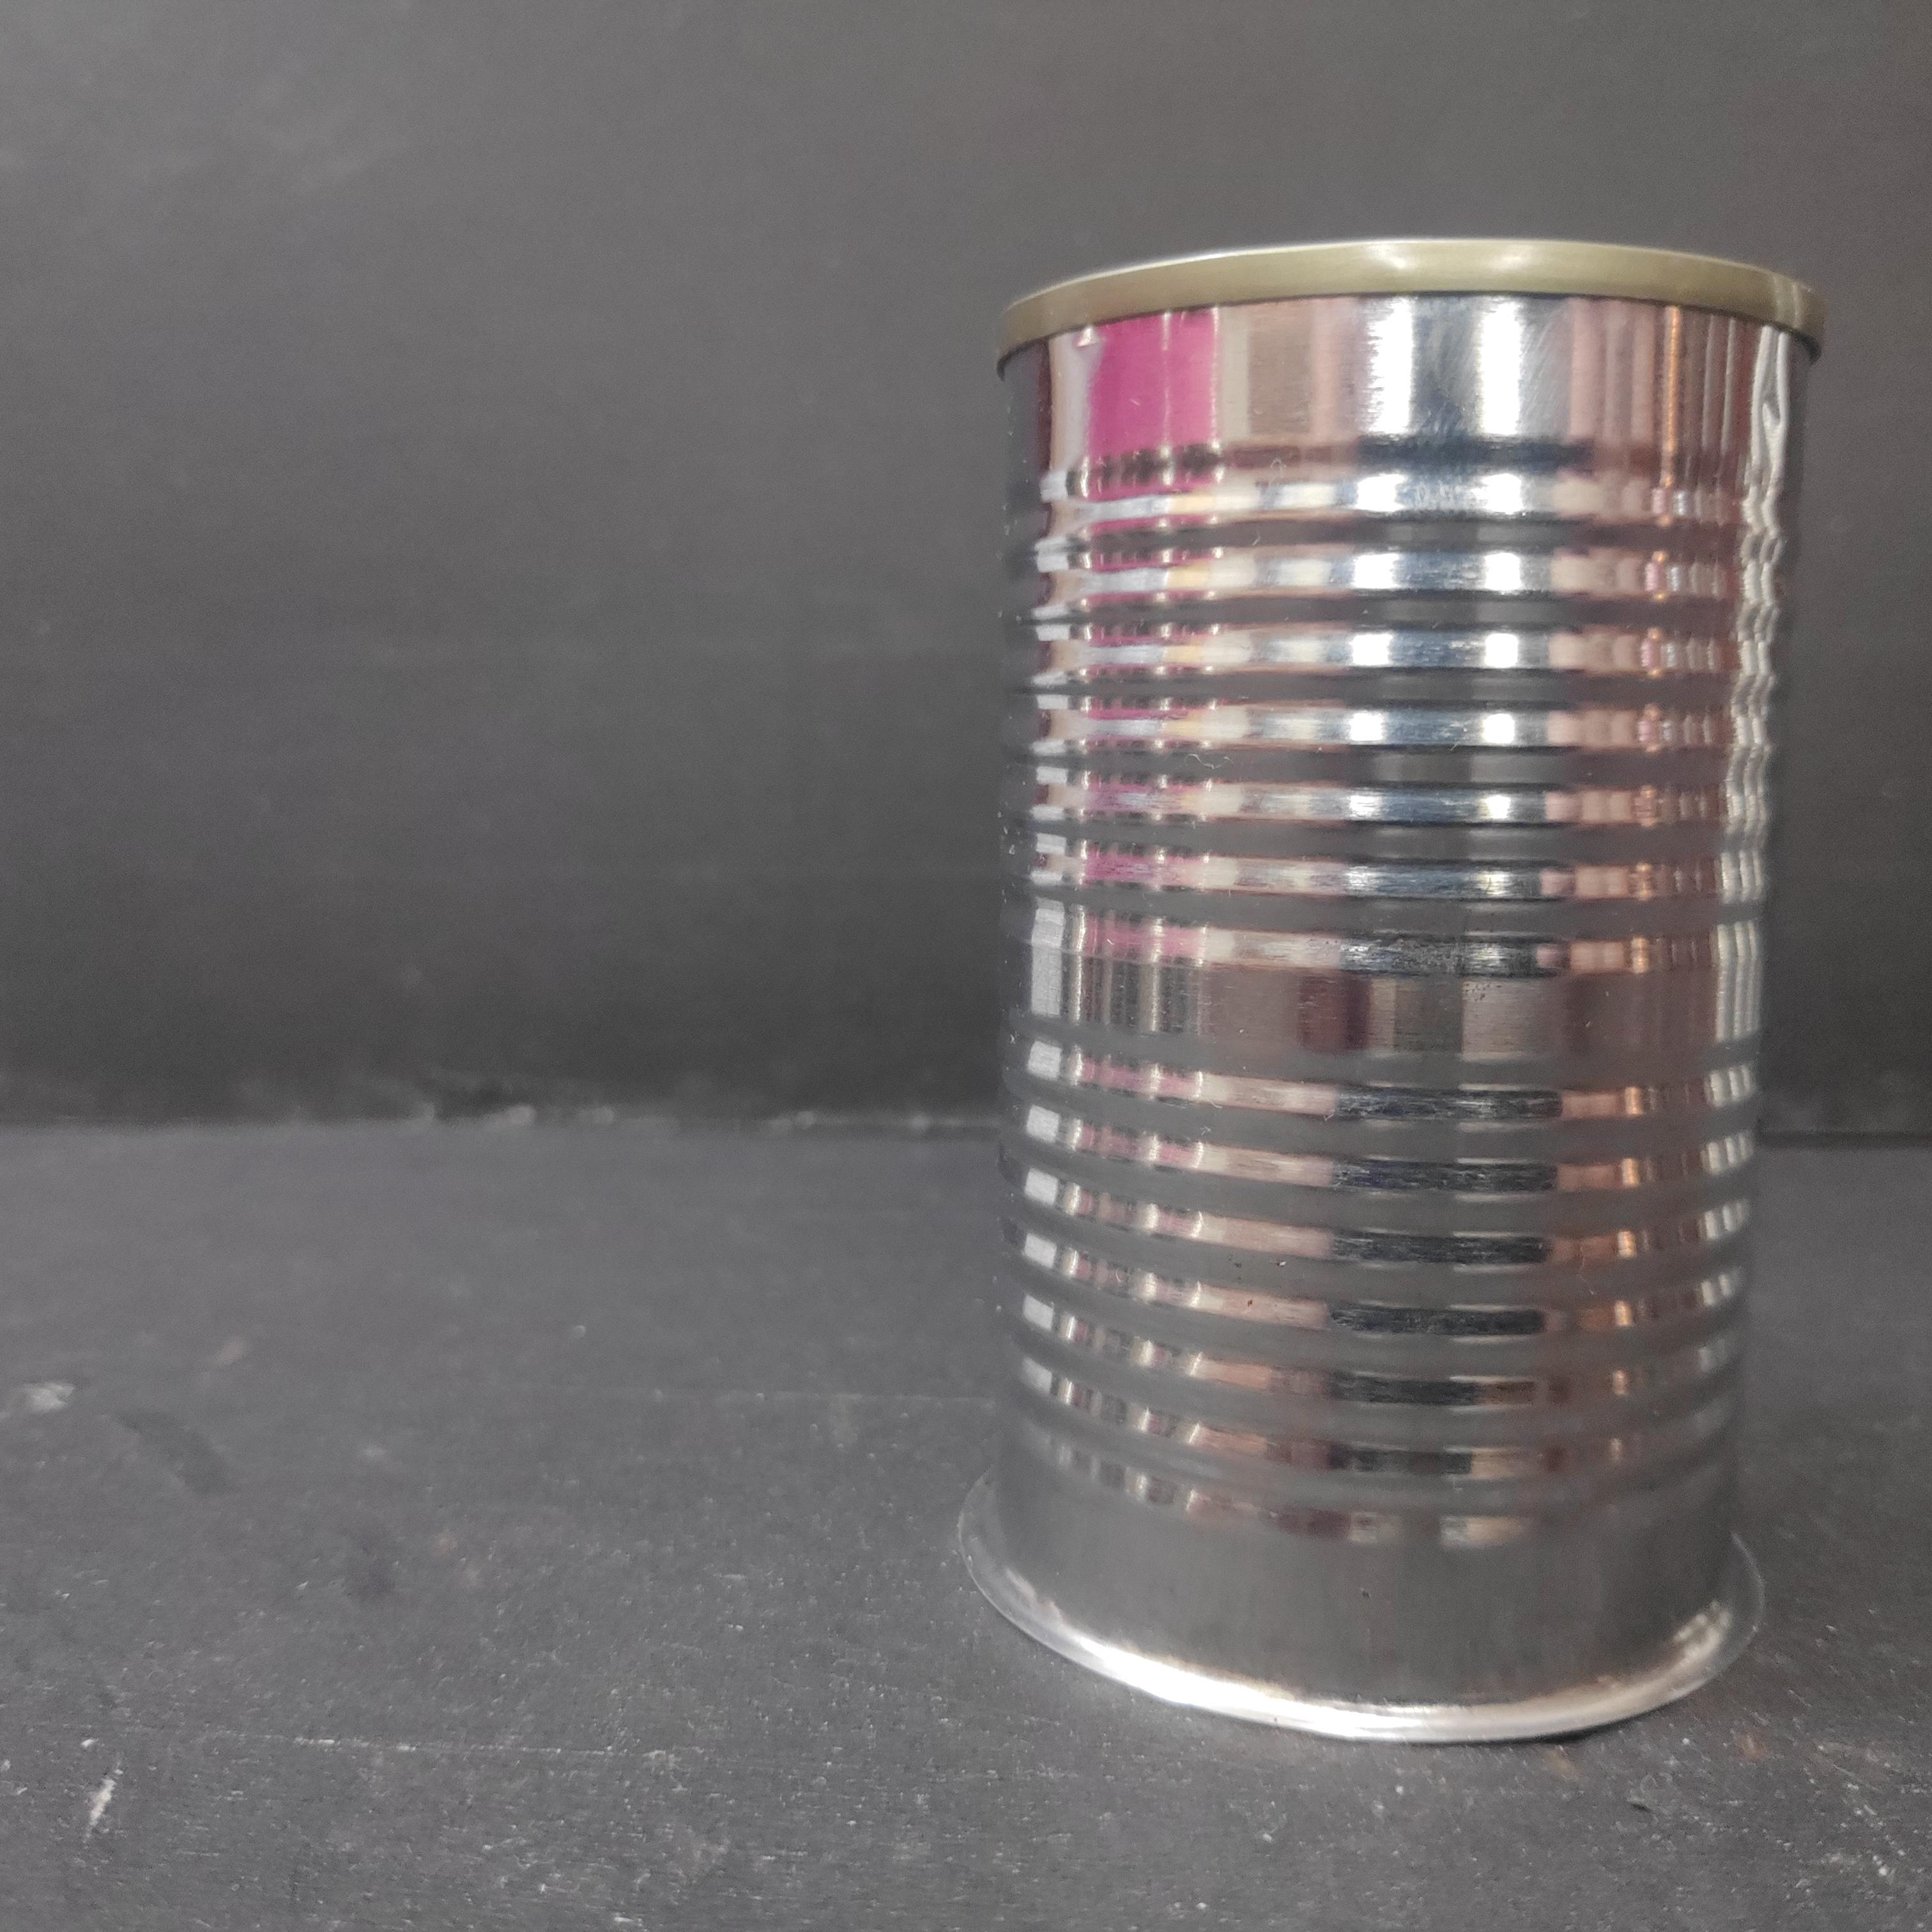No defect: (955, 234, 1831, 1743)
